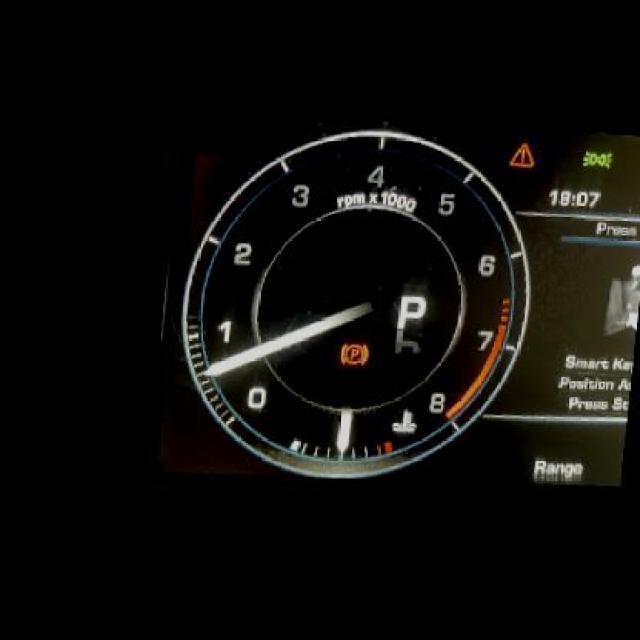Engine cooling system: (389, 412, 418, 442)
